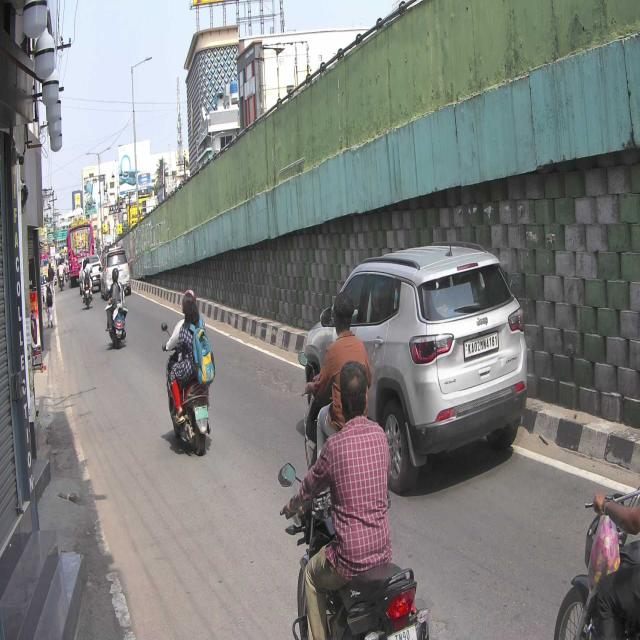double_rider: (162, 288, 218, 452)
single_rider: (309, 358, 423, 640)
